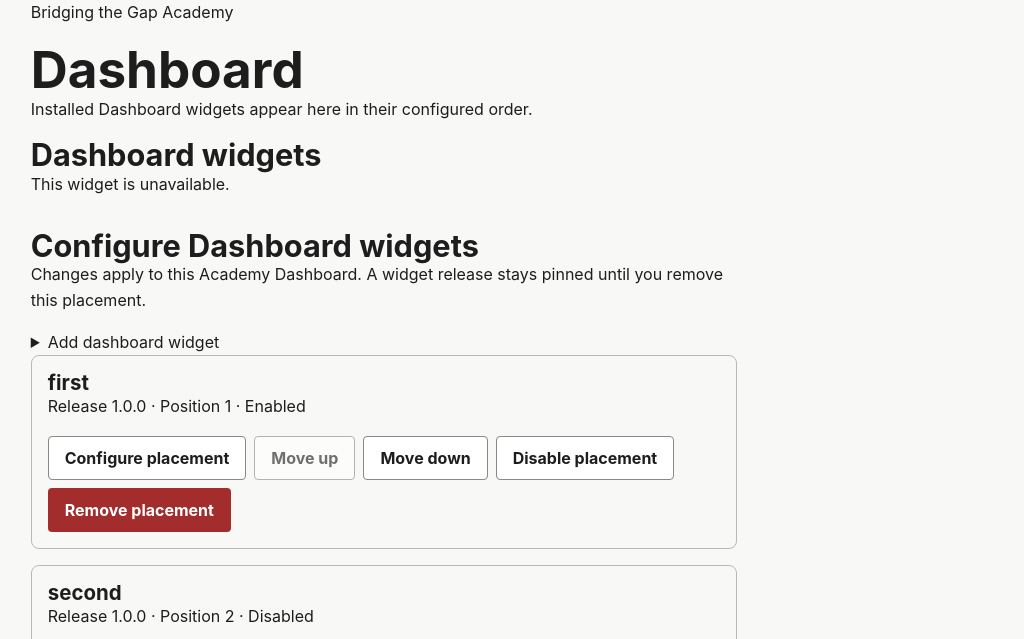
DashboardPage › keeps a conflict explicit and reloads server state instead of overwriting it
Expected: the heading "Configure Dashboard widgets" is shown, left=31, top=227, right=479, bottom=264
Click the button "Configure placement" below "Release 1.0.0 · Position 1 · Enabled": x=147, y=458 left=48, top=436, right=246, bottom=480
(page scrolled)
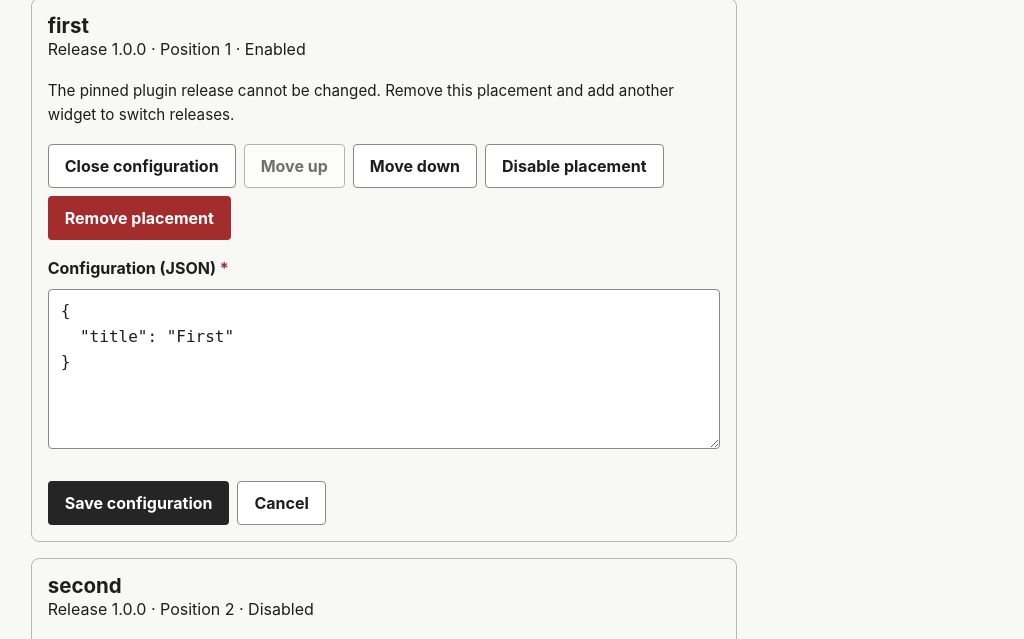
Click the button "Save configuration": x=139, y=503 left=48, top=481, right=230, bottom=525
(page scrolled)
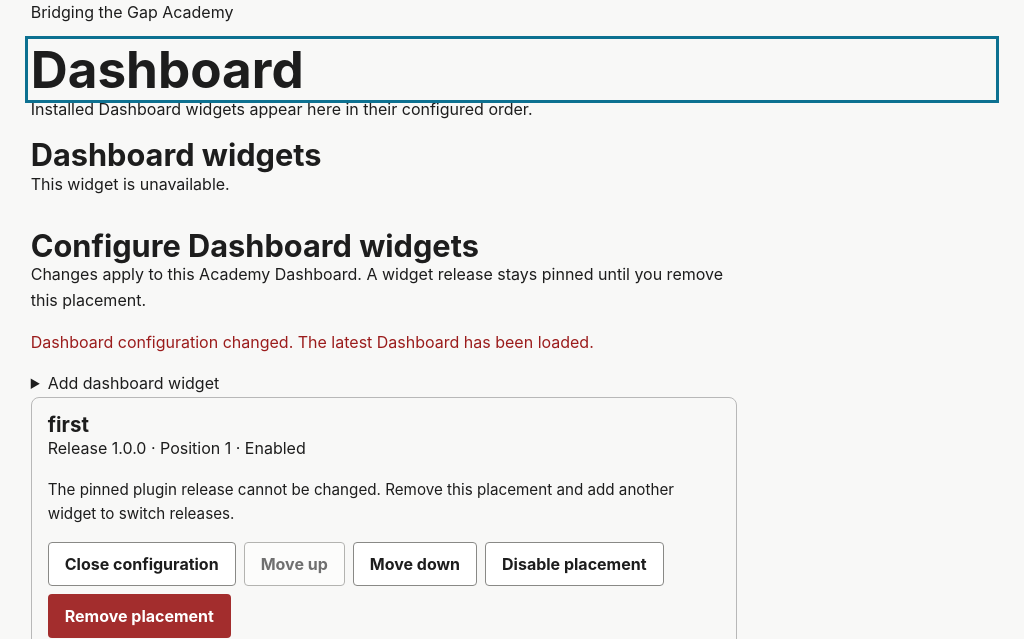
Expected: the text "Dashboard configuration changed. The latest Dashboard has been loaded." is shown, left=31, top=332, right=594, bottom=352
